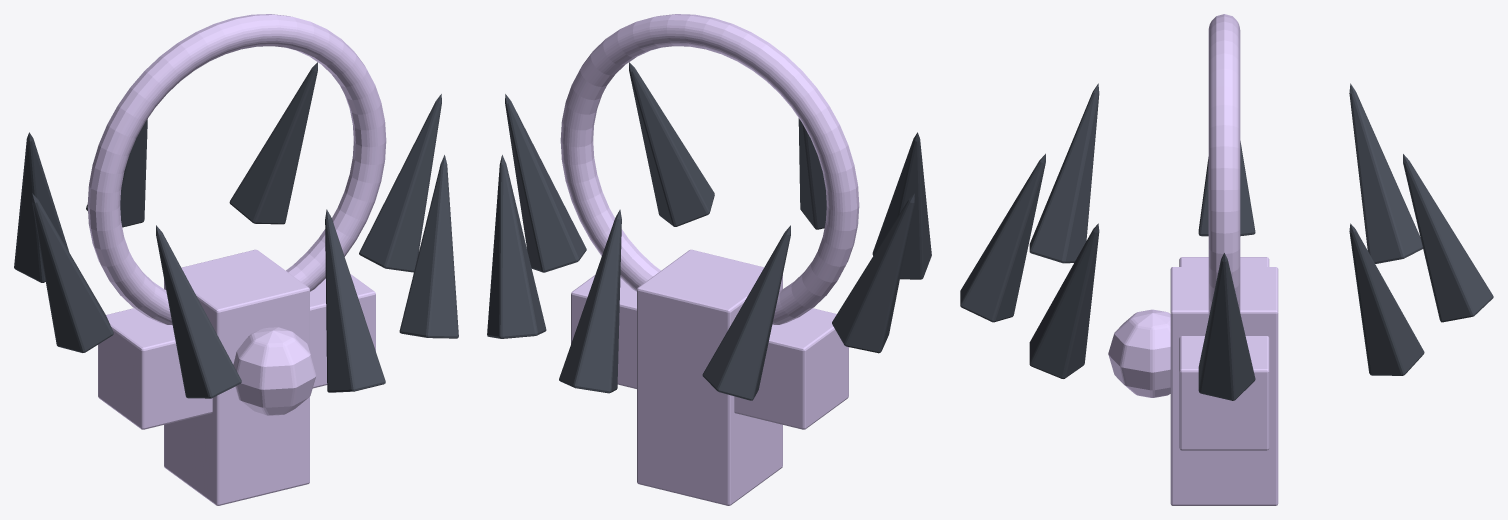
File: SM_Boss_Marktturm.fbx
The picture shows the model from 3 angles, left to right: view 1: azimuth 30°, elevation 25°; view 2: azimuth 150°, elevation 25°; view 3: azimuth 270°, elevation 25°; orthographic projection.
Parts seen in each view (by area): view 1: SM_Boss_Marktturm; view 2: SM_Boss_Marktturm; view 3: SM_Boss_Marktturm.
Part boxes in pixels (bbox=[...]): SM_Boss_Marktturm: bbox=[14, 14, 458, 505]; SM_Boss_Marktturm: bbox=[487, 14, 931, 505]; SM_Boss_Marktturm: bbox=[960, 14, 1493, 505].
Bounding box in the file's own units: 3.74 × 3.99 × 4.24.
